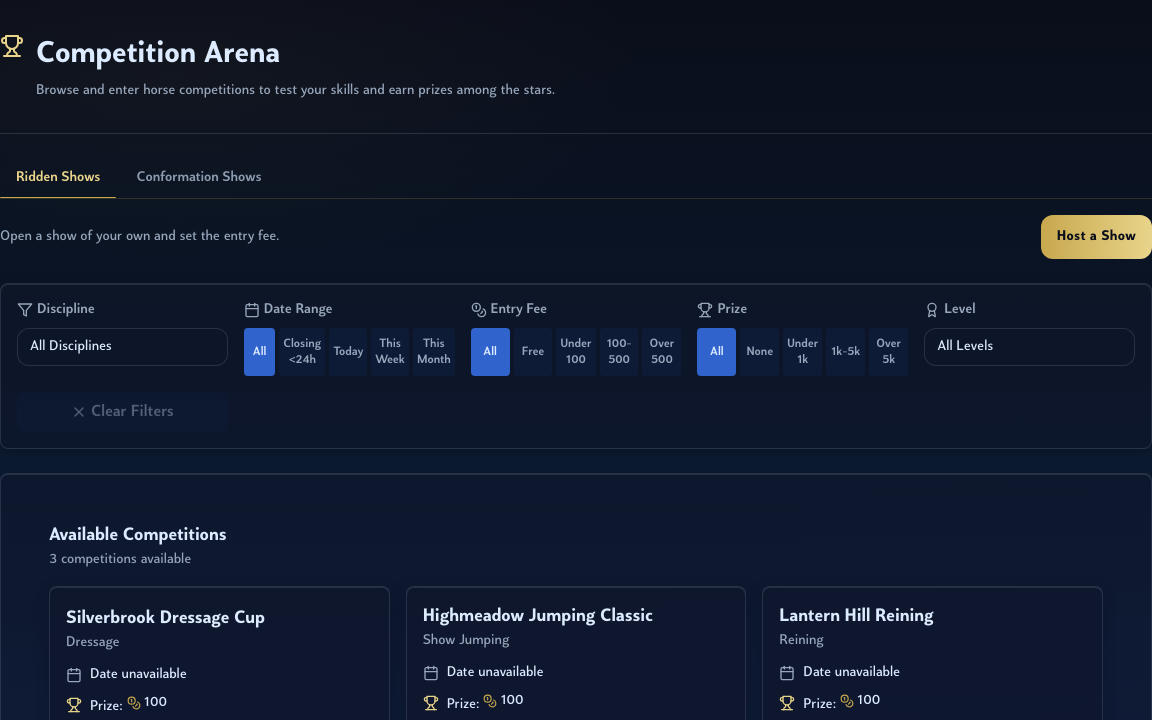
Test: CompetitionBrowserPage — filters apply to the list (Equoria-oey96.12) › the discipline filter narrows the list
Expected: the heading "Silverbrook Dressage Cup" is shown, [66,609,265,628]
Select "Show Jumping" in the dropdown with test id "filter-discipline": (122,347) [17,328,228,366]
(page scrolled)
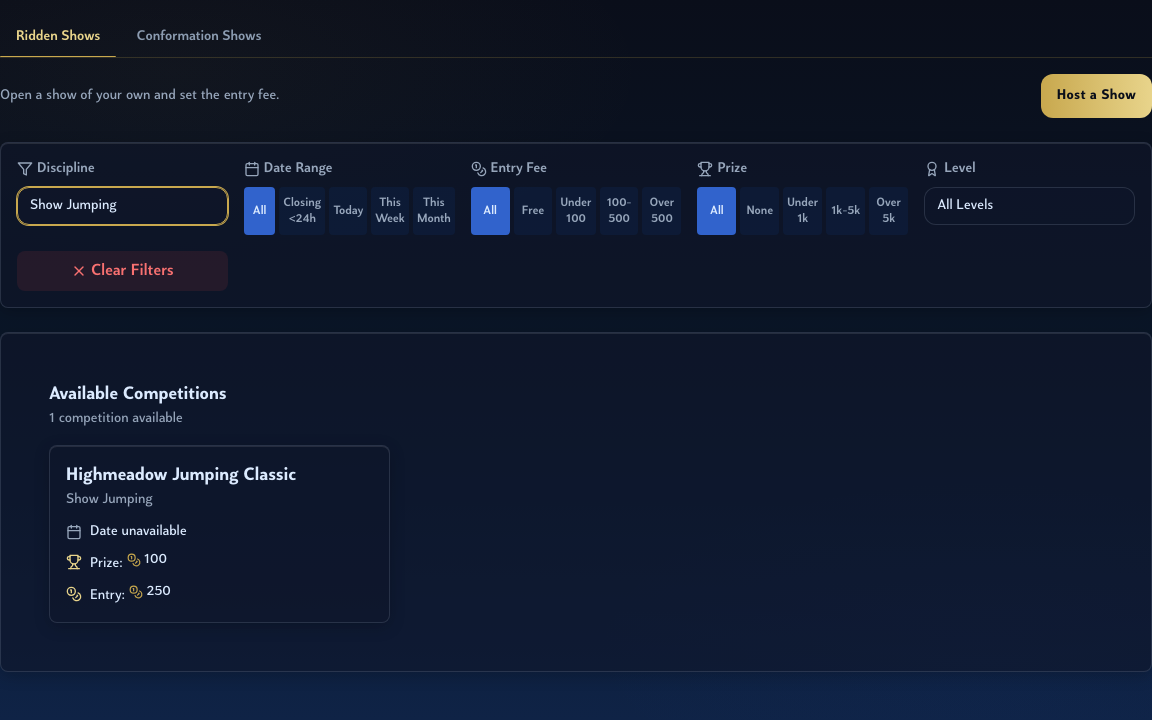
Expected: the button with test id "competition-card" shows "Highmeadow Jumping Classic", [49,445,390,623]
Expected: the number of buttons with test id "competition-card" is 1, [49,445,390,623]
